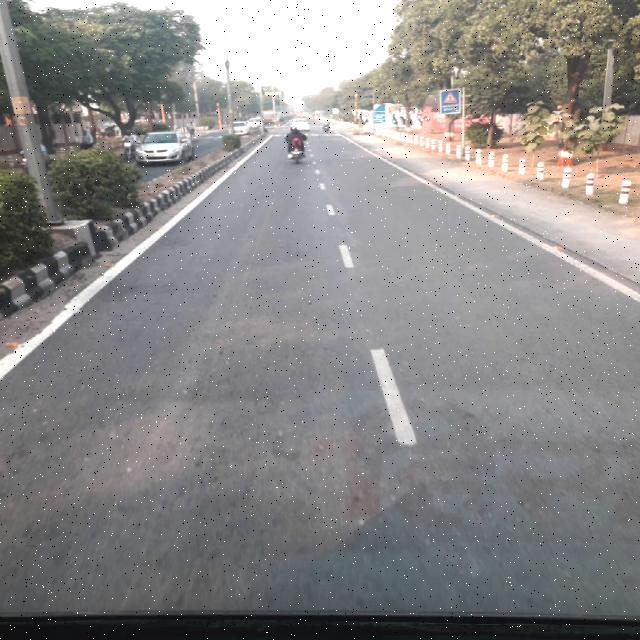D00: (158, 214, 282, 516)
